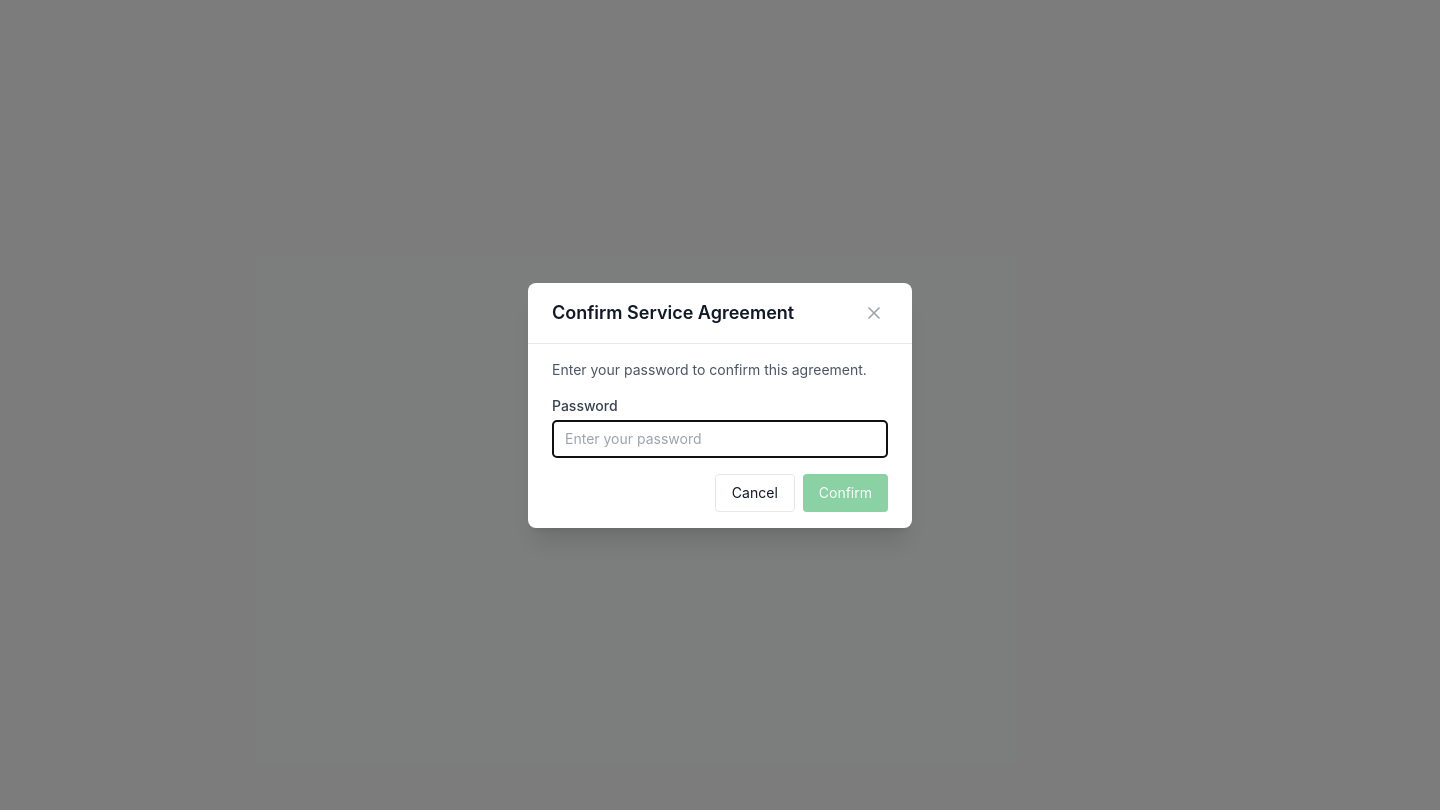
Test case: JobDetailPage agreement e-confirmation (integration) › shows error when confirmAgreement fails (wrong password)
Type "wrong" into the password field labelled "Password".
click(720, 438); type("wrong")  # box [552,420,888,458]
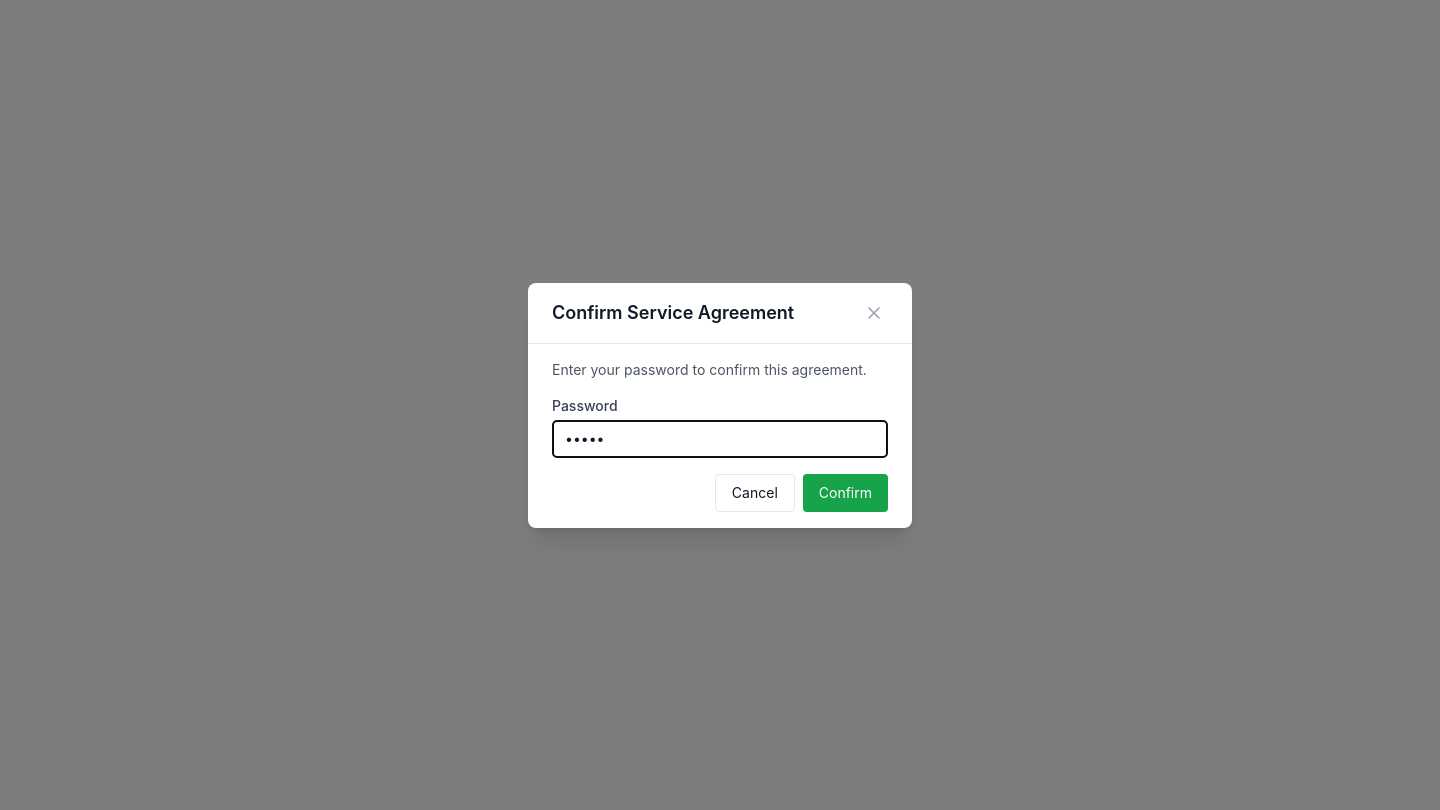
Click the button "Confirm".
click(845, 492)  # box [803,474,888,512]
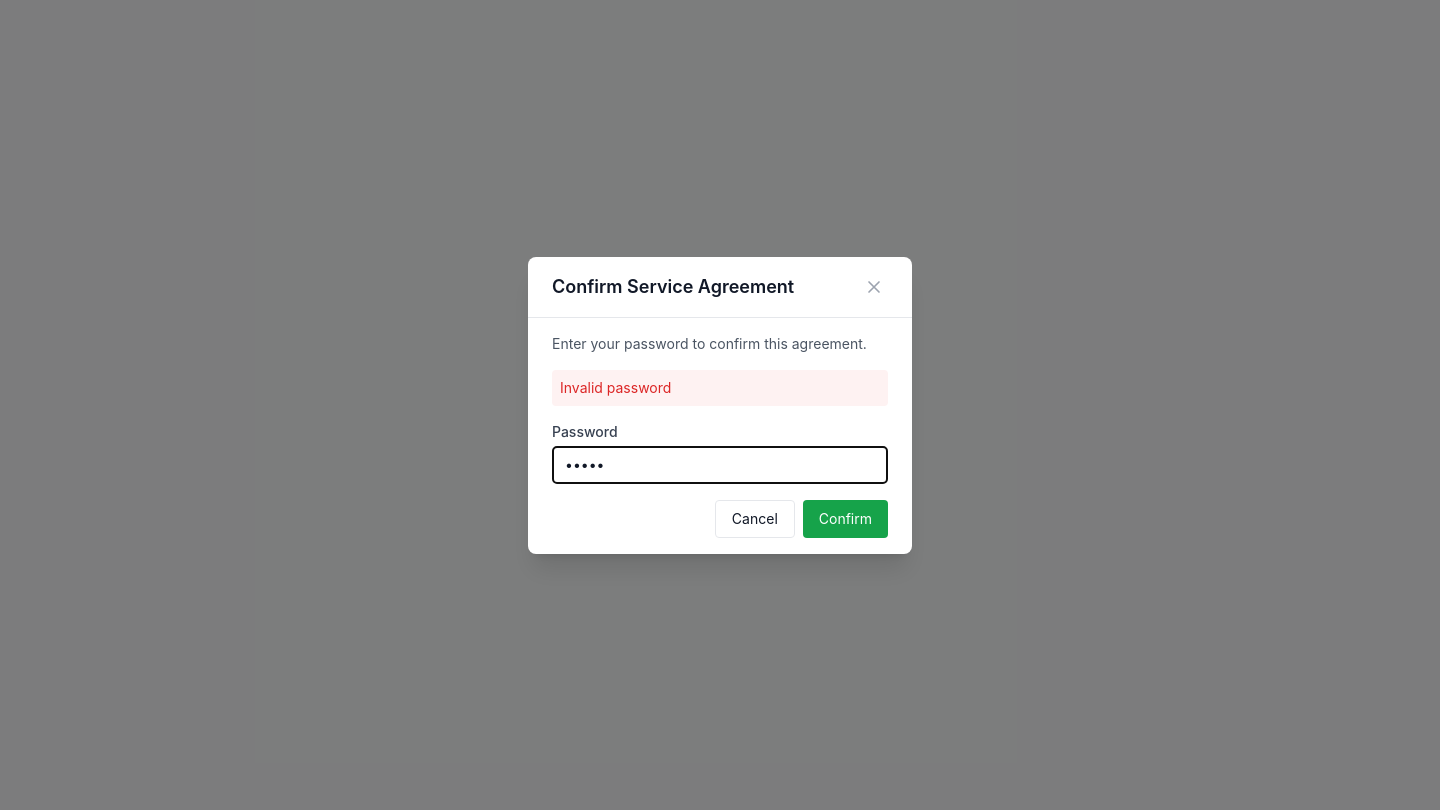
Expected: the text "Invalid password" is shown, [552,370,888,406]
